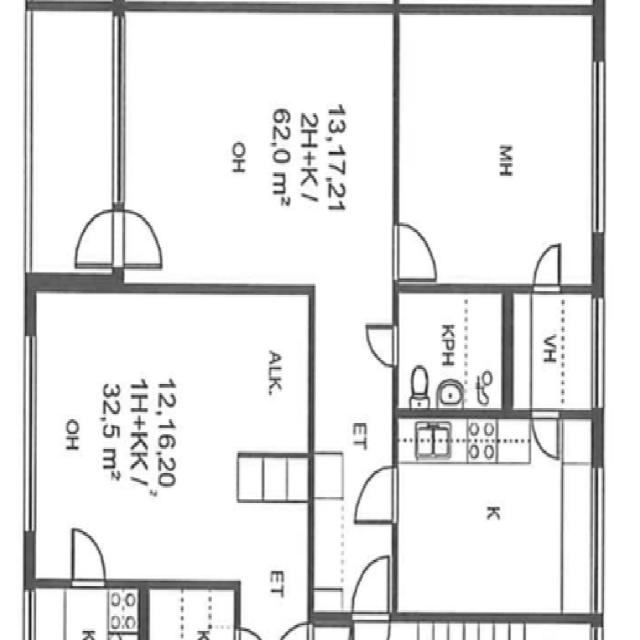door: (348, 548, 394, 625), (392, 216, 440, 284), (118, 204, 166, 268), (73, 204, 120, 268), (354, 460, 399, 526), (68, 521, 109, 586), (362, 320, 404, 371), (528, 239, 566, 291), (529, 409, 564, 462)
window: (585, 55, 611, 235), (109, 13, 129, 210), (587, 460, 609, 616), (588, 292, 610, 413), (24, 335, 36, 532), (18, 582, 37, 640)
zone: (31, 286, 311, 582), (125, 4, 392, 288), (397, 10, 596, 287), (394, 412, 595, 626), (28, 7, 118, 276), (396, 289, 506, 413), (508, 290, 599, 414), (29, 584, 143, 640)
